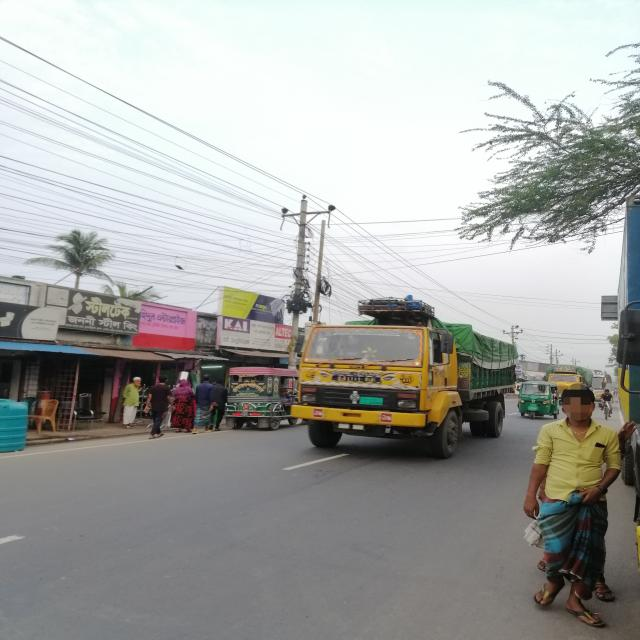CNG: (519, 382, 562, 421)
Easybike: (221, 363, 299, 436)
Truck: (283, 296, 517, 455)
